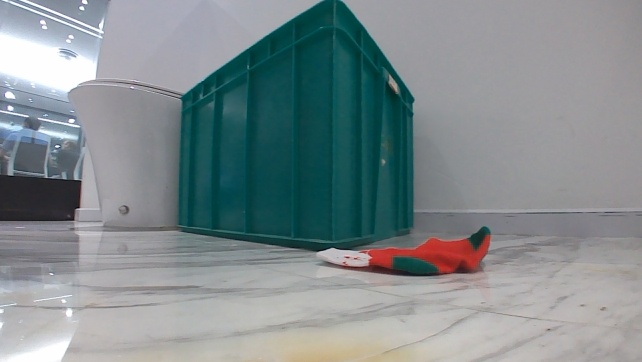socks: (311, 222, 494, 278)
toilet: (63, 75, 179, 232)
